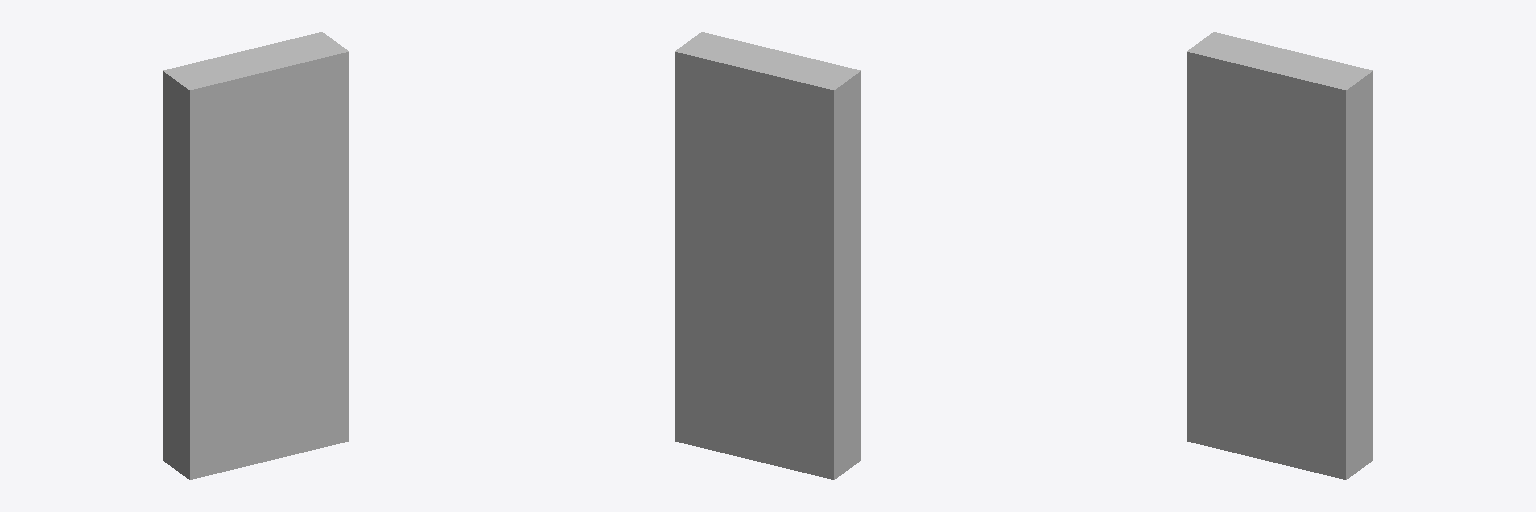
File: wood.obj
3 renders of one model, left to right at view 1: azimuth 30°, elevation 25°; view 2: azimuth 150°, elevation 25°; view 3: azimuth 330°, elevation 25°, orthographic.
Parts seen in each view (by area): view 1: Cube; view 2: Cube; view 3: Cube.
Boxes of the visible parts, x1=… form: Cube: x1=163, y1=32, x2=348, y2=479; Cube: x1=675, y1=32, x2=860, y2=479; Cube: x1=1187, y1=32, x2=1372, y2=479.
Size of the model in its own units: 2.57 by 6 by 0.756.